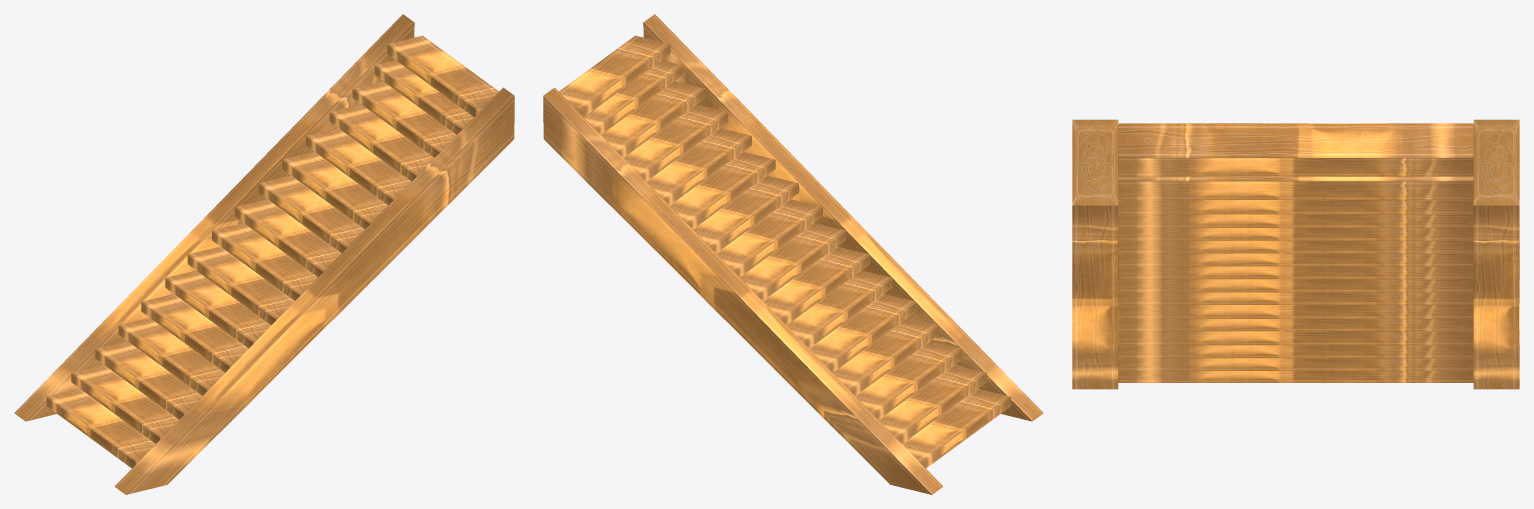
Rendered from SM_Stair.fbx.
3 views of the same model, side by side, from view 1: azimuth 30°, elevation 25°; view 2: azimuth 150°, elevation 25°; view 3: azimuth 270°, elevation 25° (orthographic). The views are drawn at different scales.
Parts seen in each view (by area): view 1: SM_Stair_LOD0; view 2: SM_Stair_LOD0; view 3: SM_Stair_LOD0.
Boxes of the visible parts, x1=… form: SM_Stair_LOD0: x1=14, y1=14, x2=514, y2=494; SM_Stair_LOD0: x1=543, y1=14, x2=1043, y2=494; SM_Stair_LOD0: x1=1072, y1=119, x2=1519, y2=389.
Bounding box in the file's own units: 410 × 200 × 300.
